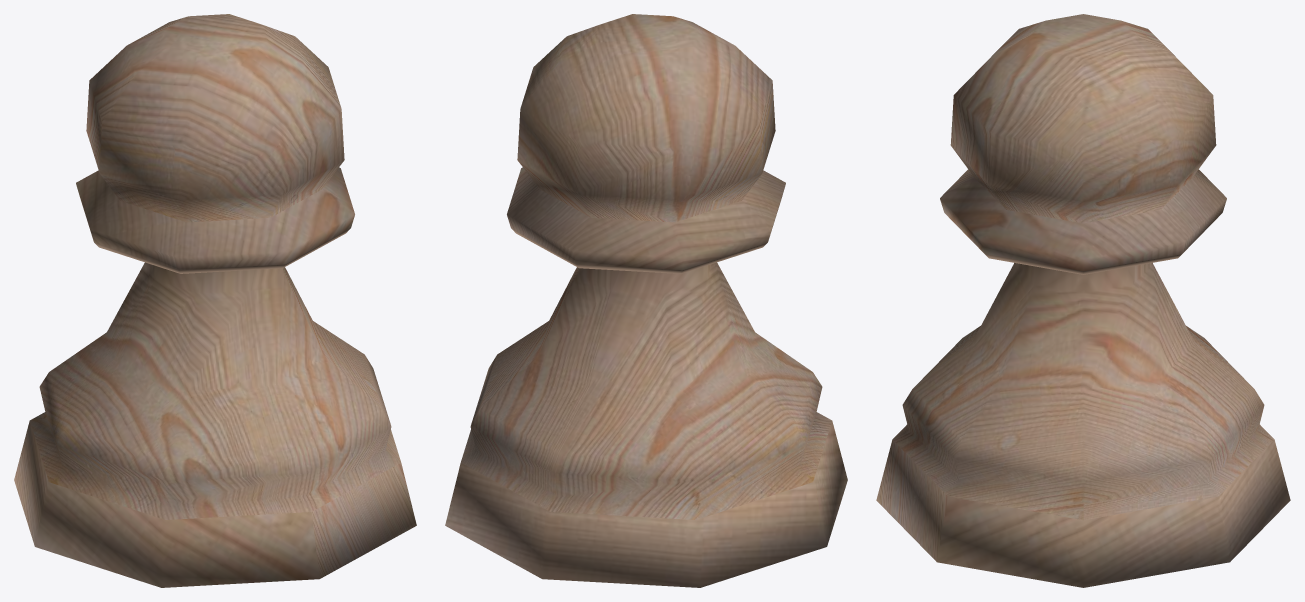
File: gercek4_p_w.glb
The picture shows the model from 3 angles, left to right: view 1: azimuth 30°, elevation 25°; view 2: azimuth 150°, elevation 25°; view 3: azimuth 270°, elevation 25°; orthographic projection.
Visible parts, largest first — view 1: p; view 2: p; view 3: p.
Part boxes in pixels (x1,y1,x2,y2): p: (14, 14, 416, 587); p: (445, 14, 847, 587); p: (876, 14, 1290, 587).
Size of the model in its own units: 0.7285 by 0.9 by 0.7285.
1 material, 1 textured.
